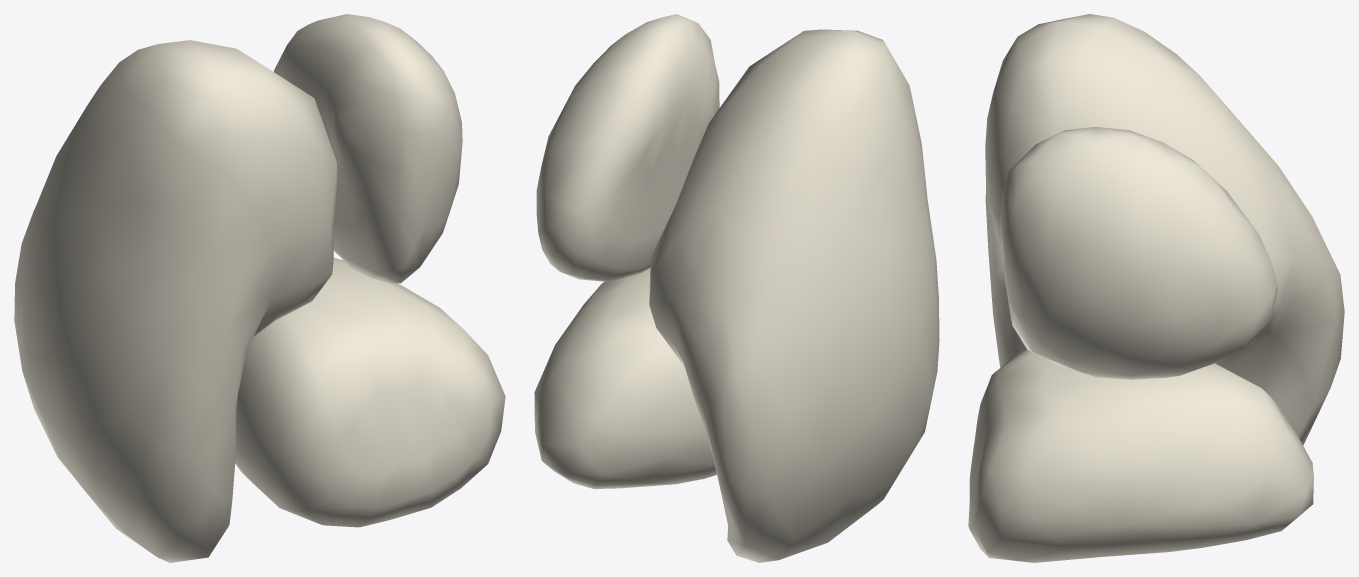
3 views of the same model, side by side, from view 1: azimuth 30°, elevation 25°; view 2: azimuth 150°, elevation 25°; view 3: azimuth 270°, elevation 25° (orthographic). The views are drawn at different scales.
Visible parts, largest first — view 1: ZA_e0adcf7244303524; view 2: ZA_e0adcf7244303524; view 3: ZA_e0adcf7244303524.
Boxes of the visible parts, x1=… form: ZA_e0adcf7244303524: x1=14, y1=14, x2=505, y2=562; ZA_e0adcf7244303524: x1=534, y1=14, x2=939, y2=562; ZA_e0adcf7244303524: x1=968, y1=14, x2=1344, y2=562.
Size of the model in its own units: 0.00956 by 0.0123 by 0.00843.
